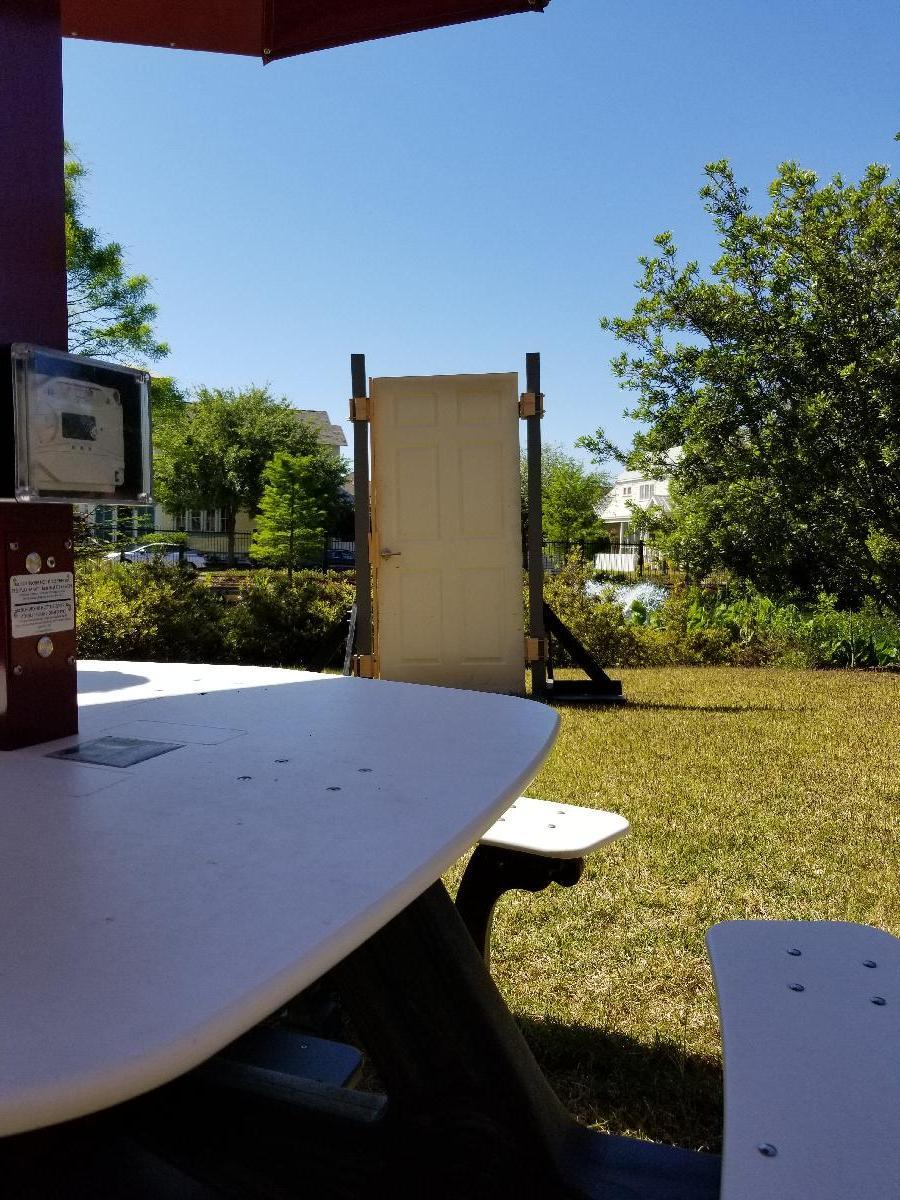door: (370, 368, 516, 689)
handle: (378, 545, 403, 562)
